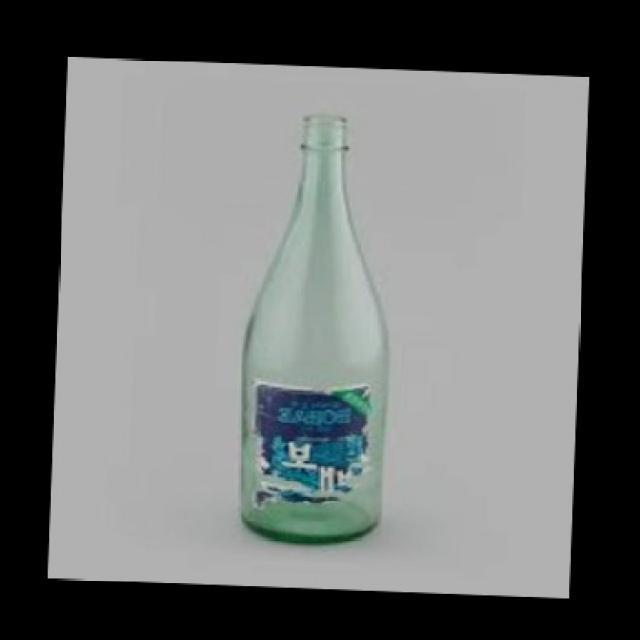Glass: (239, 114, 390, 546)
